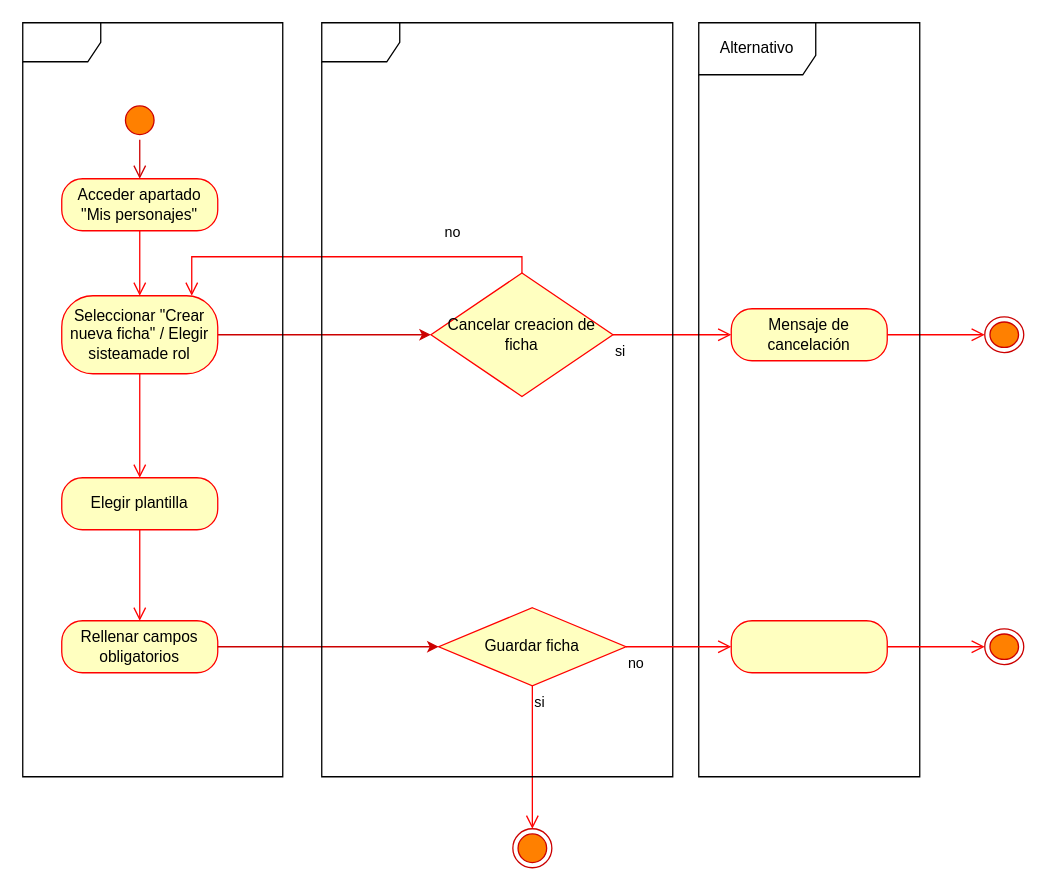
Image size: 1047x890. Some labels were removed from this diagram. The shapes that lost their labels are listed below. From the top down, each one's centre as x and y in pixels, then its label:
the point at 152,399: Jugador
the point at 496,399: Sistema
the point at 808,646: Borrador
